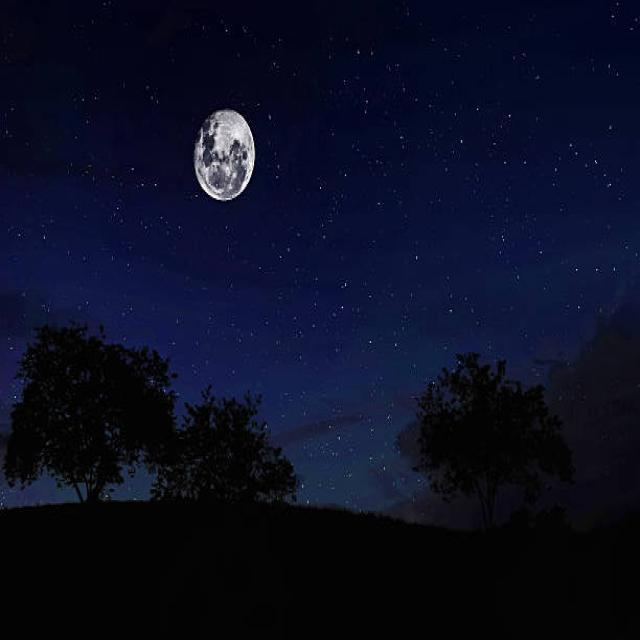moon: (188, 101, 256, 198)
